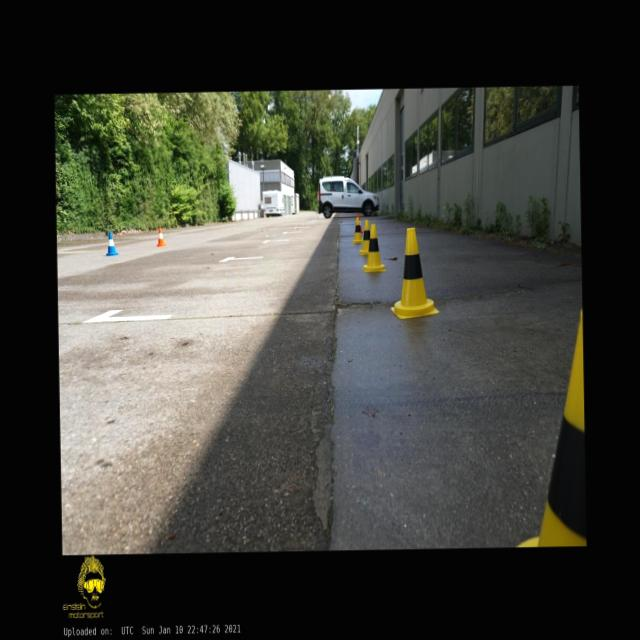blue_cone: (106, 232, 118, 254)
orange_cone: (157, 228, 166, 245), (358, 214, 363, 233)
yellow_cone: (511, 306, 586, 546), (388, 227, 438, 319), (362, 224, 384, 272), (358, 219, 370, 254), (352, 217, 362, 243)
